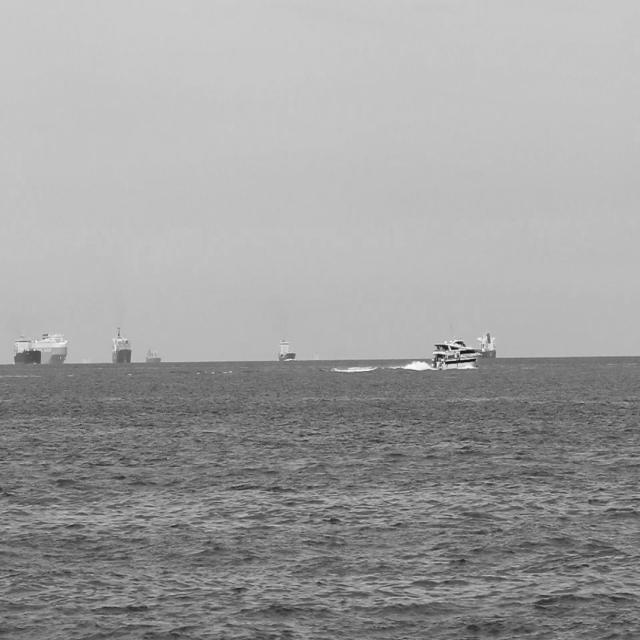ship: (429, 335, 480, 371), (452, 325, 497, 360), (18, 330, 66, 362), (111, 317, 130, 365), (13, 336, 40, 364), (274, 329, 294, 357), (141, 338, 159, 363)
